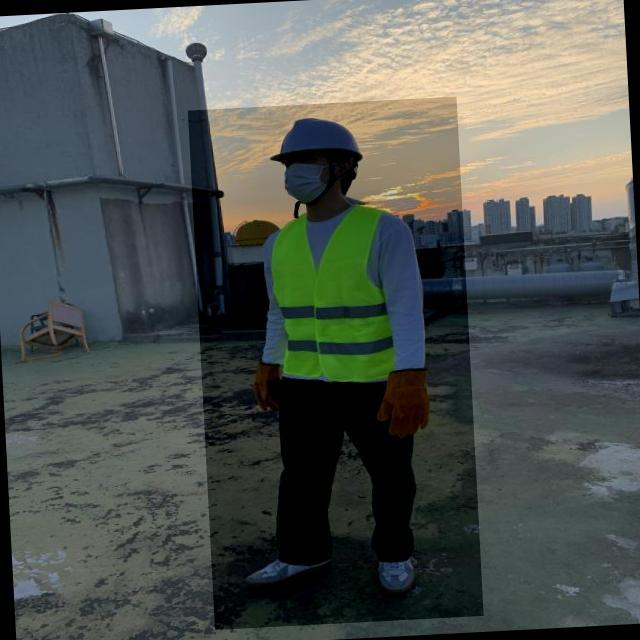Gloves: (371, 363, 439, 446), (250, 355, 293, 421)
Helmet: (270, 116, 364, 168)
Person: (229, 104, 458, 615)
Safety Boot: (243, 556, 335, 591), (376, 557, 417, 599)
Safety Vest: (275, 205, 399, 386)
